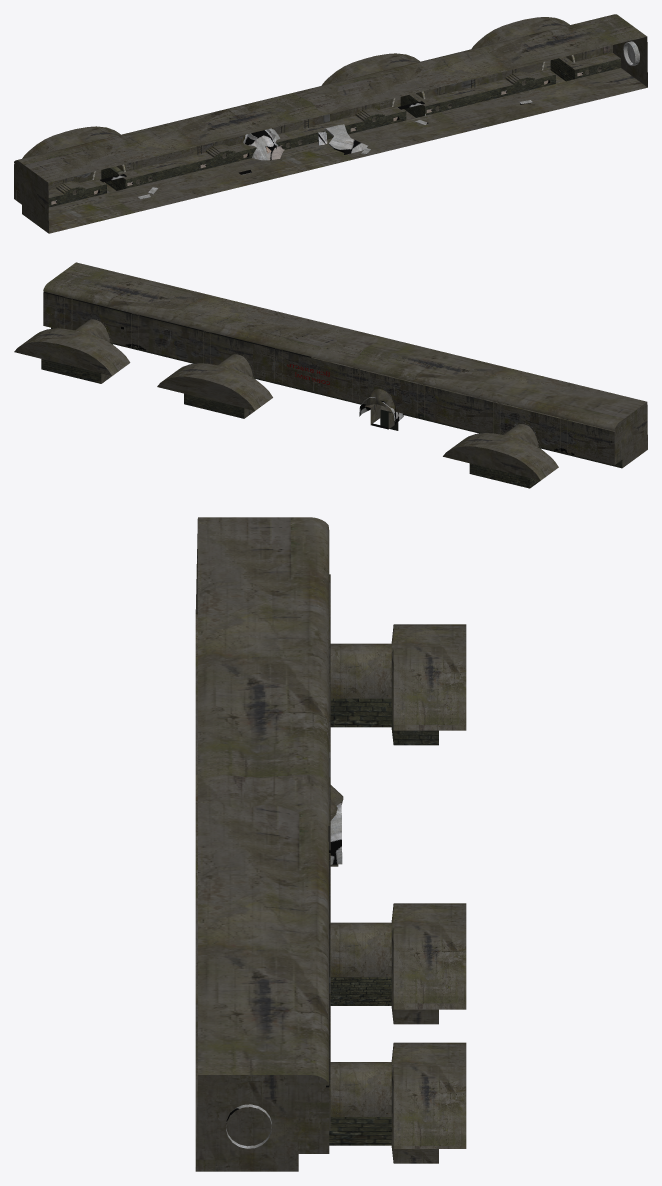
Rendered from Kanalizac.FBX.
The picture shows the model from 3 angles, top to bottom: view 1: azimuth 30°, elevation 25°; view 2: azimuth 150°, elevation 25°; view 3: azimuth 270°, elevation 25°; orthographic projection. The views are drawn at different scales.
Parts seen in each view (by area): view 1: LpcationKanalizac, Musor; view 2: LpcationKanalizac; view 3: LpcationKanalizac, Musor.
Part boxes in pixels (x1,y1,x2,y2): LpcationKanalizac: (14,14,647,233); Musor: (51,41,639,204); LpcationKanalizac: (14,262,647,488); LpcationKanalizac: (195,517,466,1171); Musor: (226,802,342,1148).
Size of what is drawn, in the model's own units: 431 by 46.99 by 87.89.
